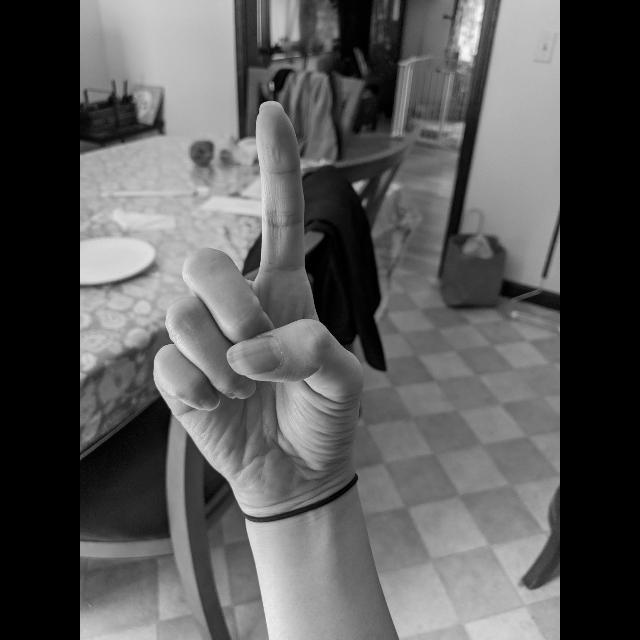D: (146, 97, 374, 521)
